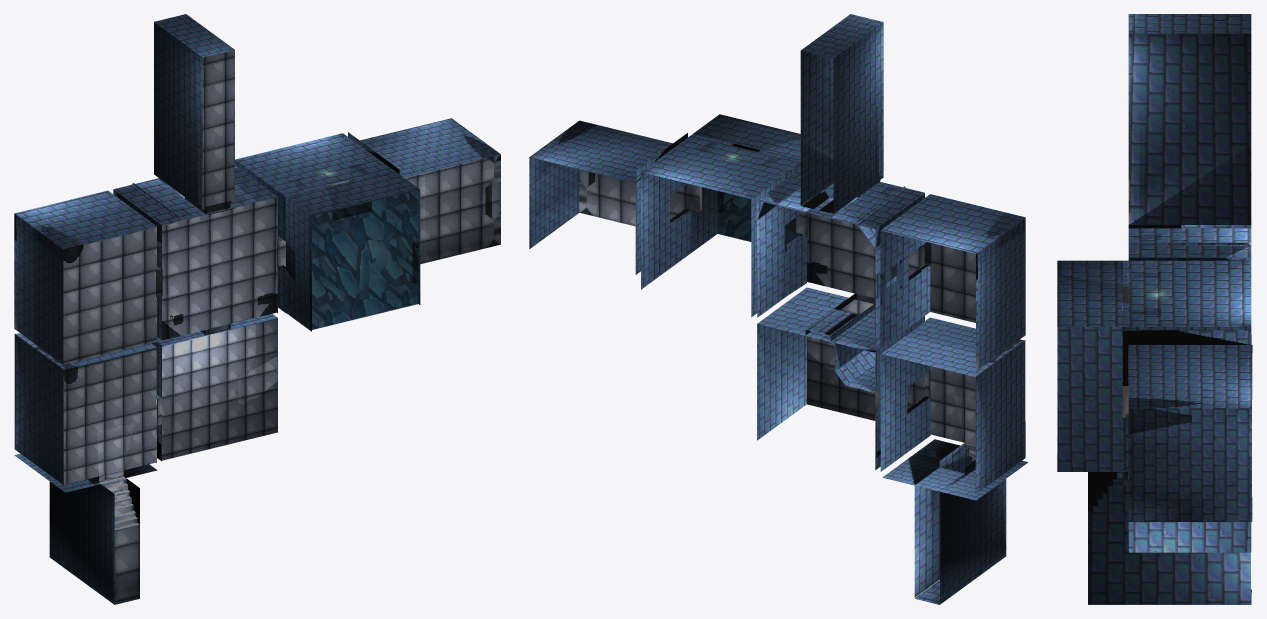
File: level3.obj
3 views of the same model, side by side, from view 1: azimuth 30°, elevation 25°; view 2: azimuth 150°, elevation 25°; view 3: azimuth 270°, elevation 25° (orthographic). The views are drawn at different scales.
Parts seen in each view (by area): view 1: Cube.001; view 2: Cube.001; view 3: Cube.001.
Boxes of the visible parts, x1=… form: Cube.001: x1=14, y1=14, x2=500, y2=604; Cube.001: x1=529, y1=14, x2=1028, y2=604; Cube.001: x1=1057, y1=14, x2=1252, y2=604.
Size of the model in its own units: 1525 by 1697 by 469.
